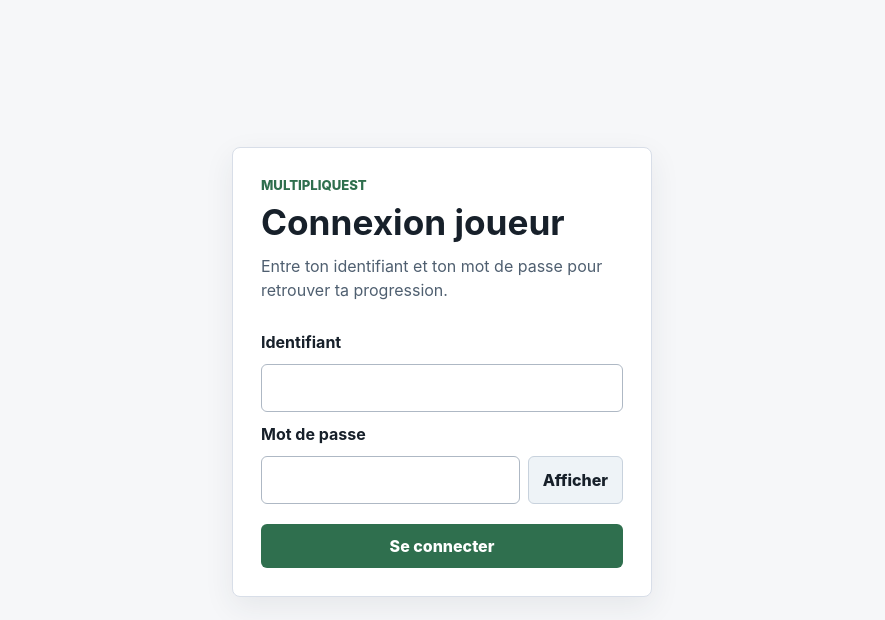
Test: authentication flow › logs in and shows the player dashboard
Expected: the heading "Connexion joueur" is shown, [261, 201, 565, 243]
Type "nina" into the field labelled "Identifiant".
click(442, 388); type("nina")  # box [261, 364, 623, 412]
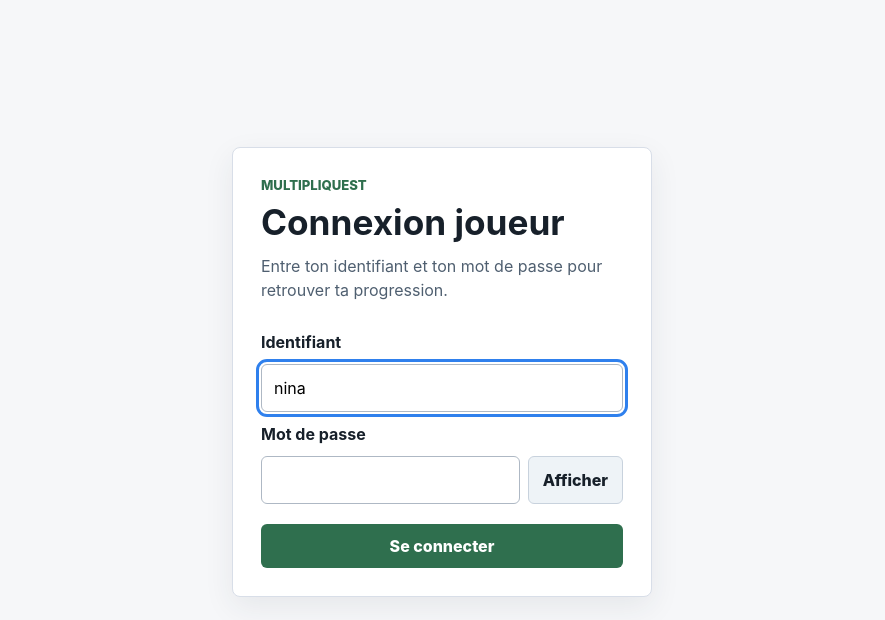
Type "secret" into the password field labelled "Mot de passe".
click(390, 480); type("secret")  # box [261, 456, 520, 504]
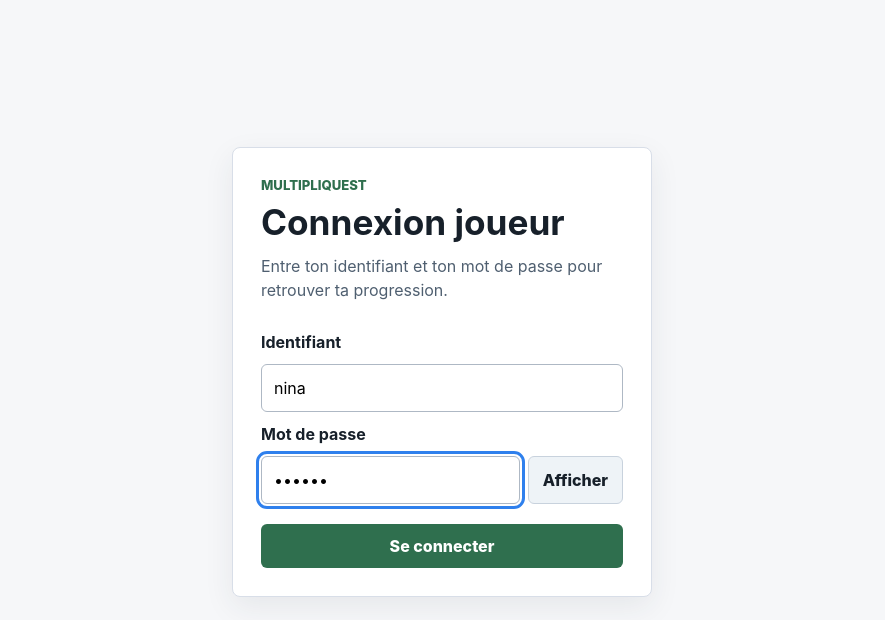
Click the button "Se connecter".
click(442, 546)  # box [261, 524, 623, 568]
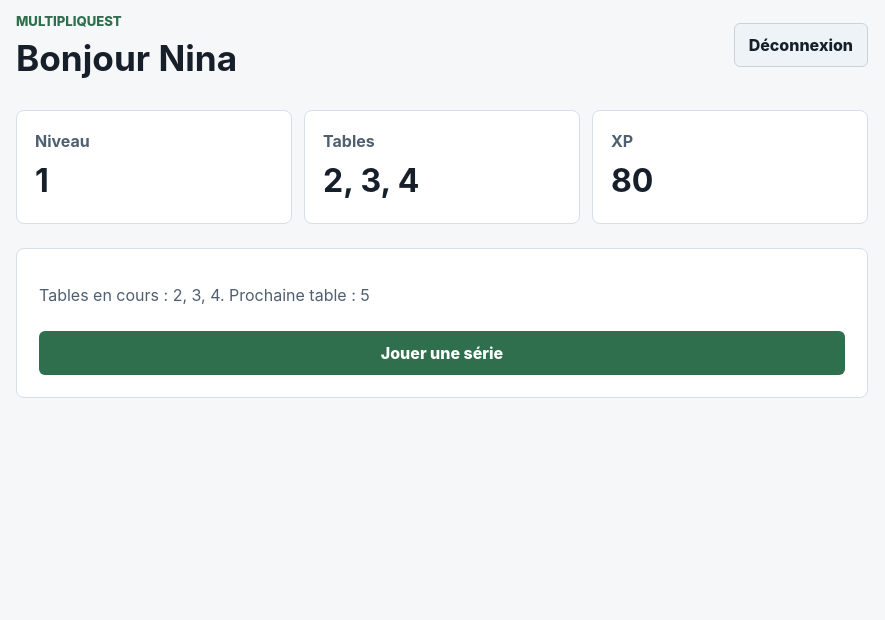
Expected: the heading "Bonjour Nina" is shown, [16, 38, 237, 78]
Expected: the text "80" is shown, [611, 161, 653, 200]
Expected: the button "Jouer une série" is shown, [39, 331, 845, 375]
